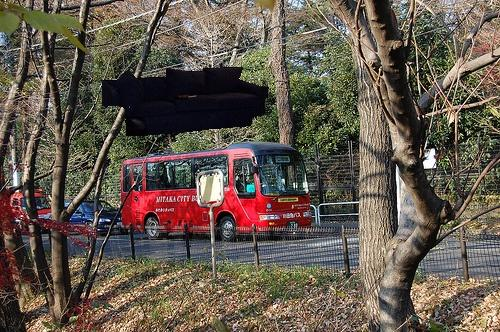tampered: (103, 68, 268, 136)
